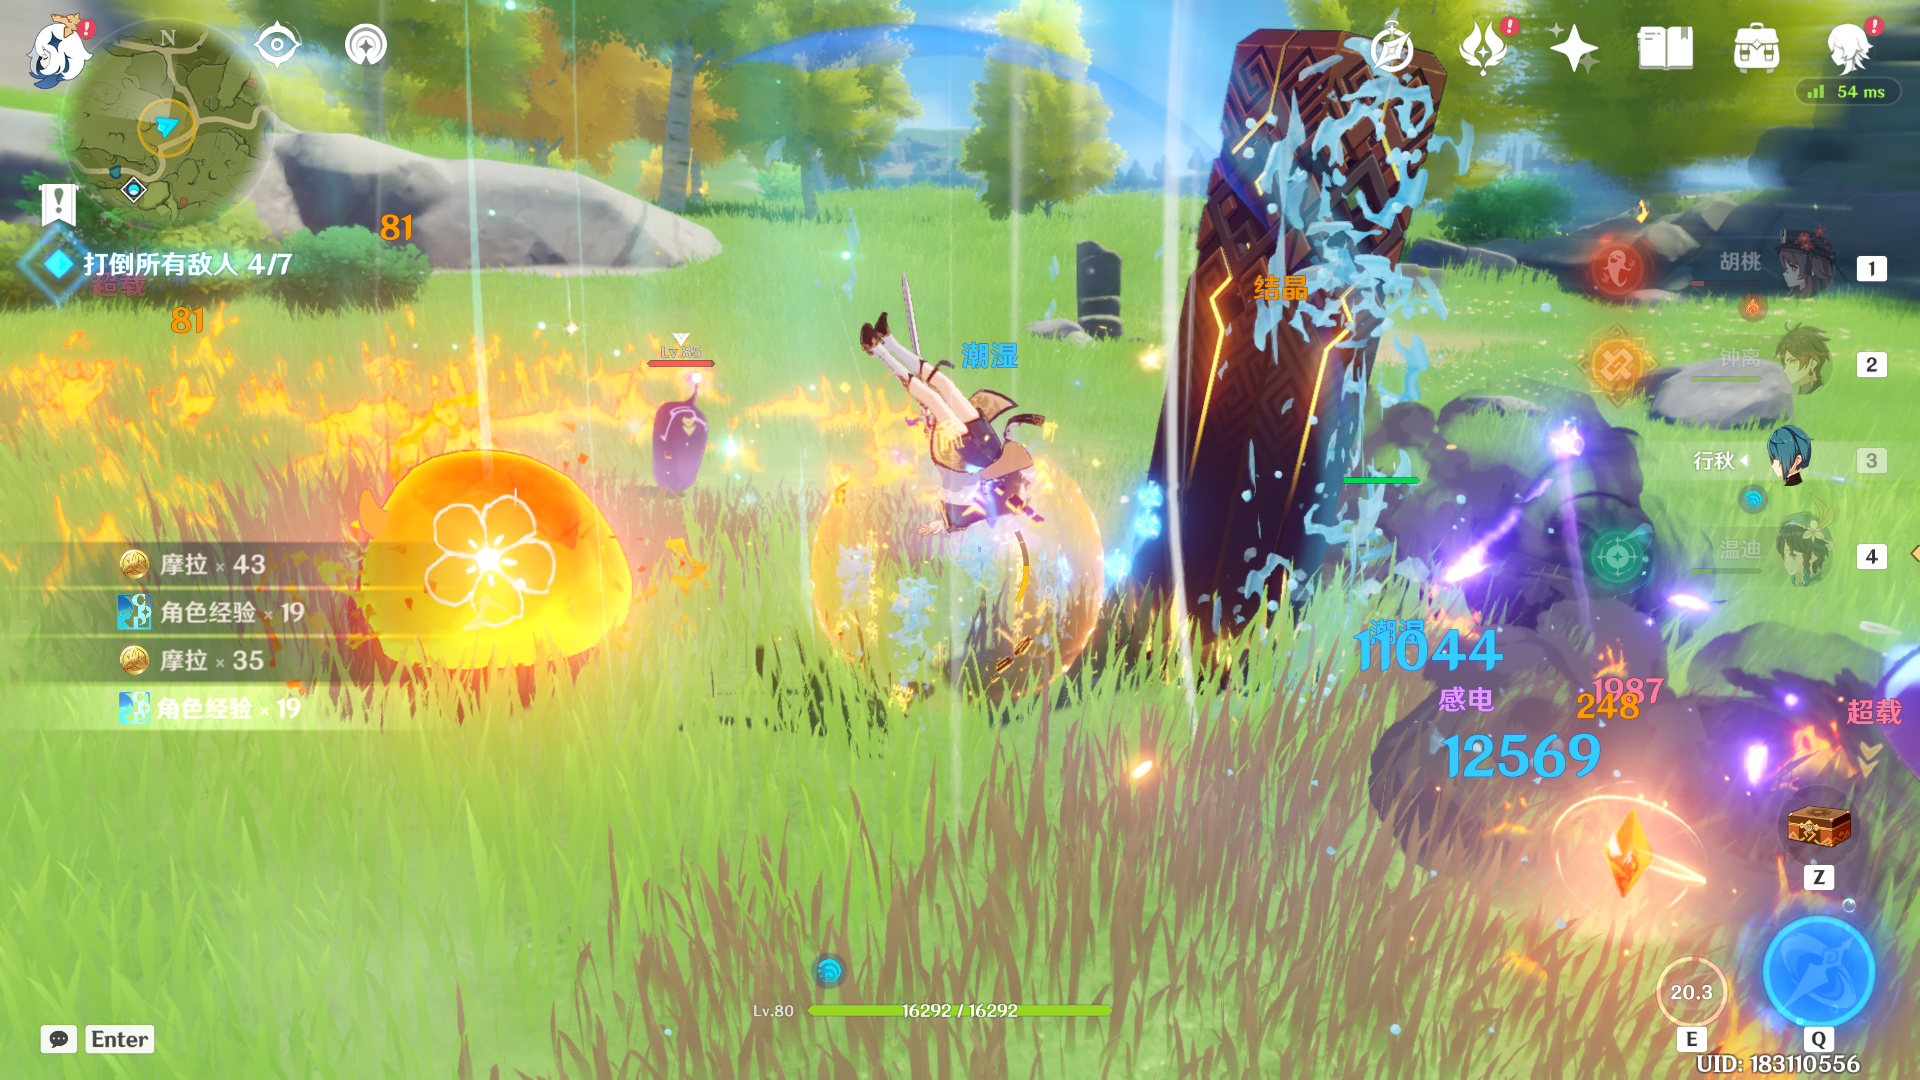character: (827, 274, 1135, 713)
slime: (324, 409, 673, 692)
